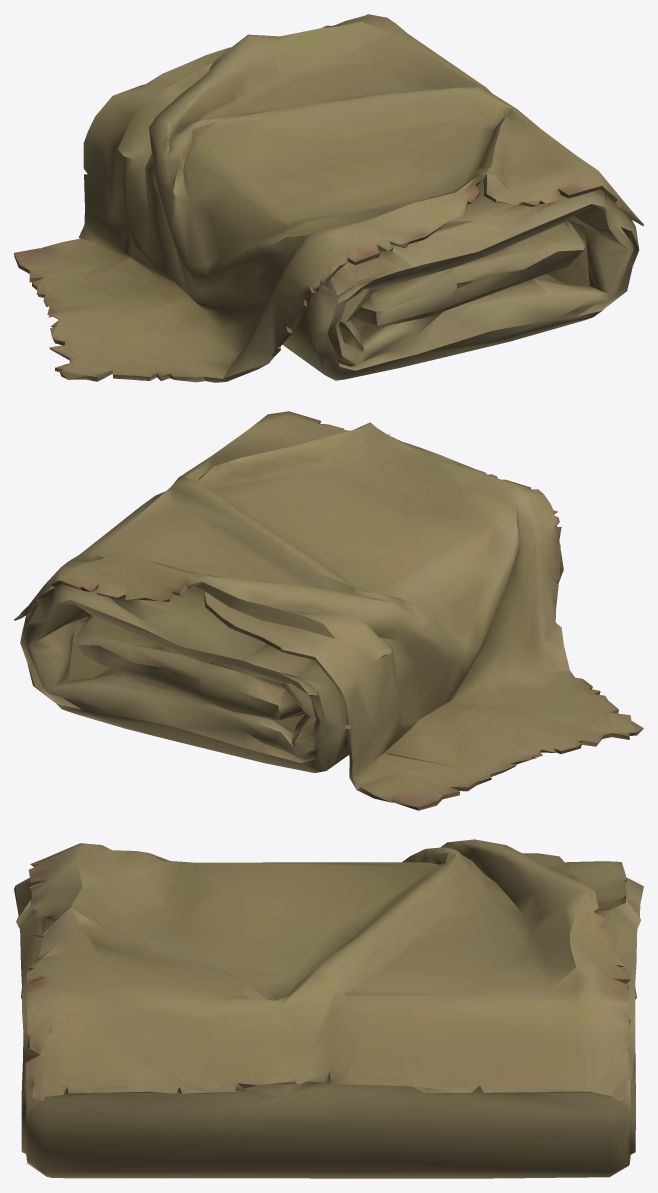
The model's file is mat_cloth_loskut_idle.glb.
3 views of the same model, one above another, from view 1: azimuth 30°, elevation 25°; view 2: azimuth 150°, elevation 25°; view 3: azimuth 270°, elevation 25° (orthographic). The views are drawn at different scales.
Visible parts, largest first — view 1: tripo_node_502eb0dd-cac2-480e-83c8-49980581558d; view 2: tripo_node_502eb0dd-cac2-480e-83c8-49980581558d; view 3: tripo_node_502eb0dd-cac2-480e-83c8-49980581558d.
Boxes of the visible parts, x1,y1,x2,y2 form: tripo_node_502eb0dd-cac2-480e-83c8-49980581558d: [14, 14, 643, 382]; tripo_node_502eb0dd-cac2-480e-83c8-49980581558d: [14, 411, 643, 810]; tripo_node_502eb0dd-cac2-480e-83c8-49980581558d: [14, 839, 643, 1178].
Bounding box in the file's own units: 0.5861 × 0.2001 × 0.5031.
Materials: 1 (1 with a texture image).
